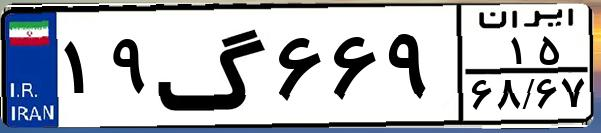1: (57, 26, 110, 100), (508, 27, 537, 80)
5: (537, 27, 568, 80)
6: (270, 28, 330, 110), (330, 28, 385, 110), (470, 70, 495, 125), (535, 70, 560, 125)
7: (560, 70, 590, 125)
8: (495, 70, 520, 125)
9: (385, 28, 445, 110), (110, 28, 156, 98)
گ: (156, 12, 270, 120)
